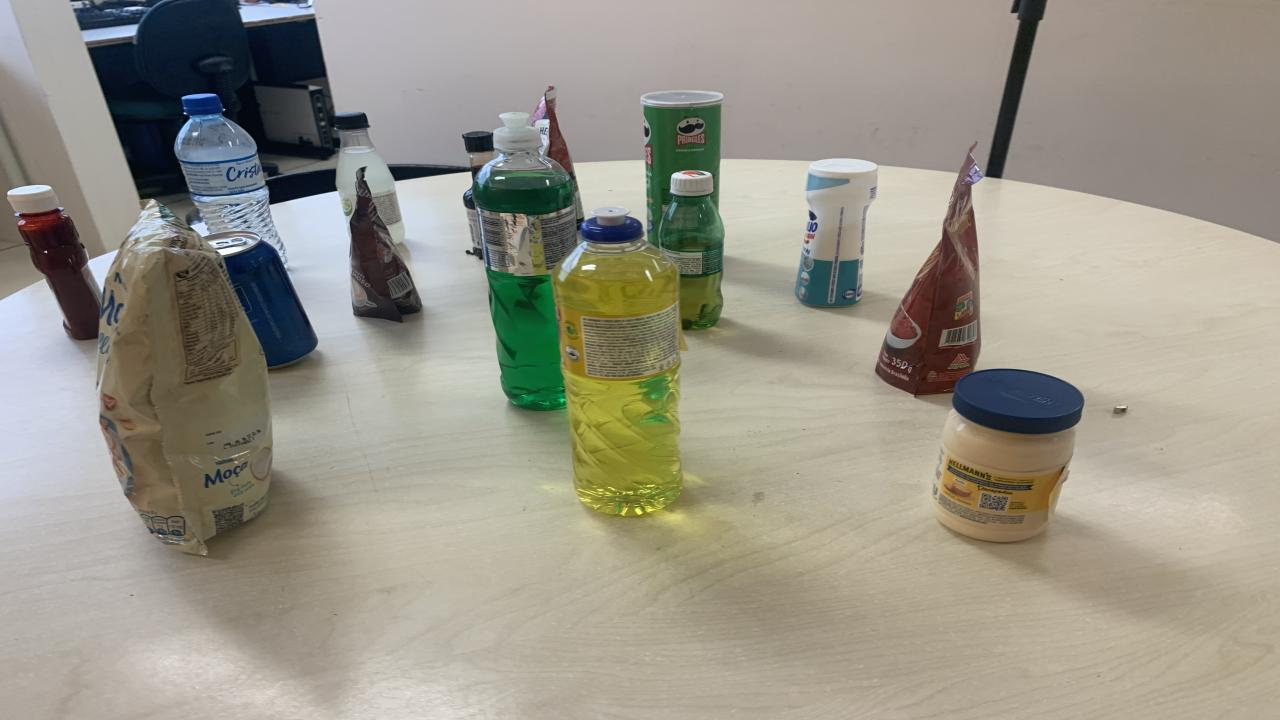Cleaner-Cleanup_Items: (795, 158, 878, 308)
Coffee-Pantry_Items: (350, 167, 422, 322)
Detergent-Cleanup_Items: (550, 206, 682, 516), (472, 112, 578, 411)
English_Sauce-Pantry_Items: (462, 131, 495, 178), (462, 189, 482, 259)
Flakes-Snacks: (98, 201, 272, 553)
Guarana-Drinks: (658, 171, 725, 328)
Ketchup-Pantry_Items: (8, 186, 100, 339)
Mayonnaise-Pantry_Items: (932, 369, 1085, 542)
Pringles-Snacks: (640, 90, 722, 242)
Soda-Drinks: (332, 112, 405, 244)
Tomato_Sauce-Pantry_Items: (875, 148, 982, 396)
Tonic-Drinks: (205, 231, 318, 368)
Water_Bottle-Drinks: (175, 94, 288, 264)
